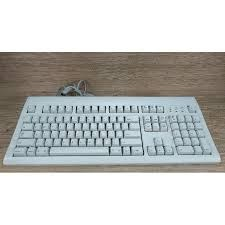keyboard: (7, 91, 223, 170)
